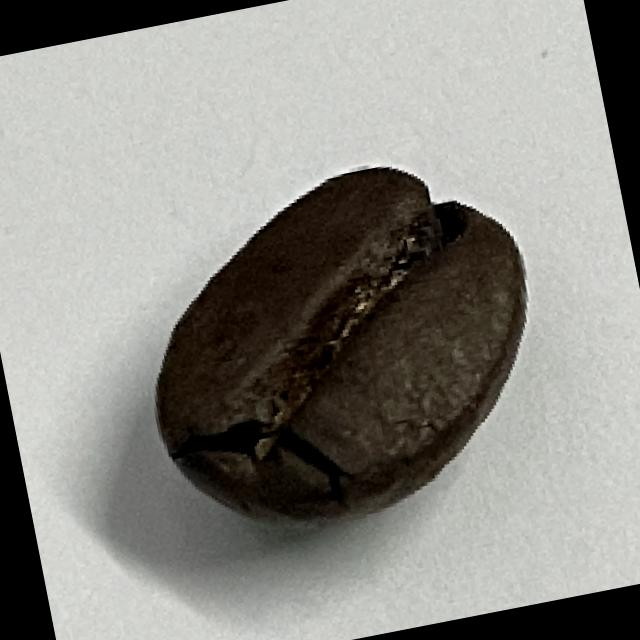bean: (114, 134, 572, 552)
